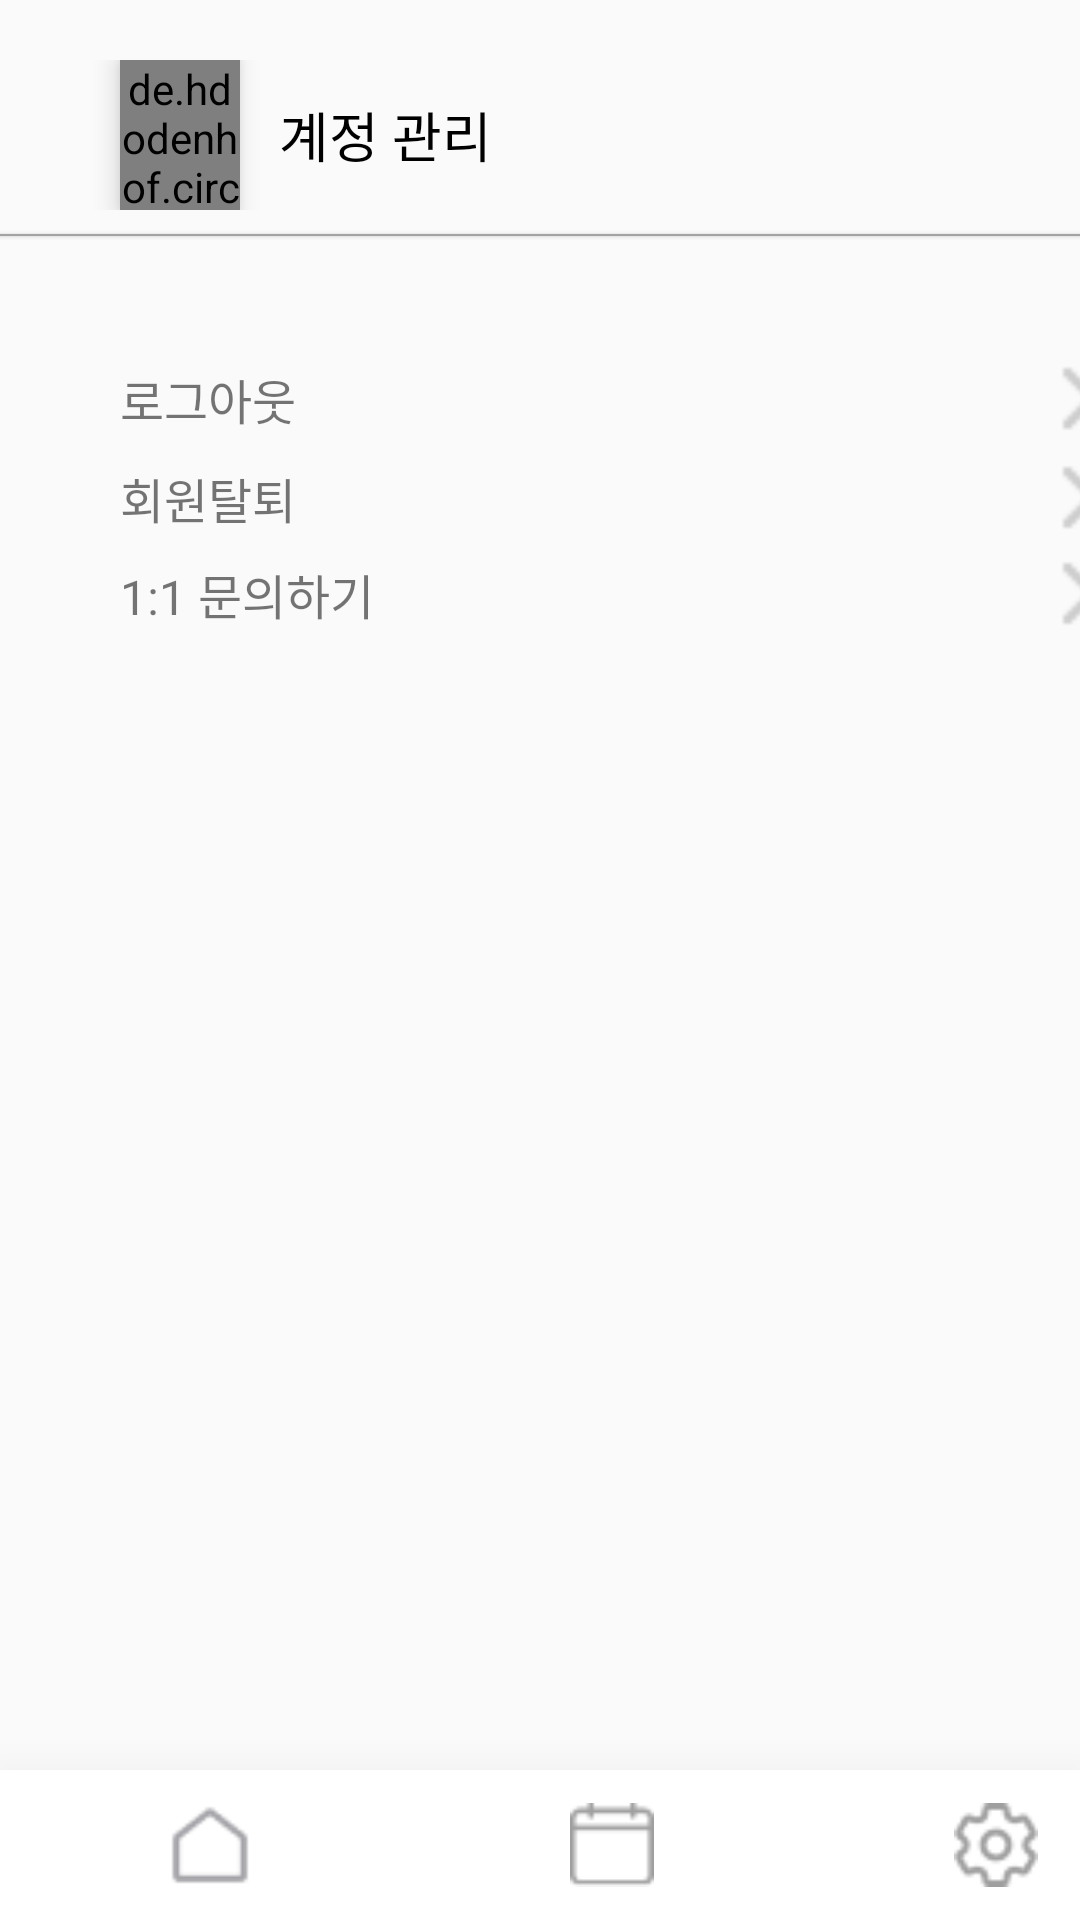

Icon bounding boxes for this 1080x1920 phone screenshot, format (x1, y1, x2, y2):
calendar event: (570, 1803, 654, 1885)
home event: (172, 1808, 248, 1883)
setting event: (954, 1803, 1038, 1887)
